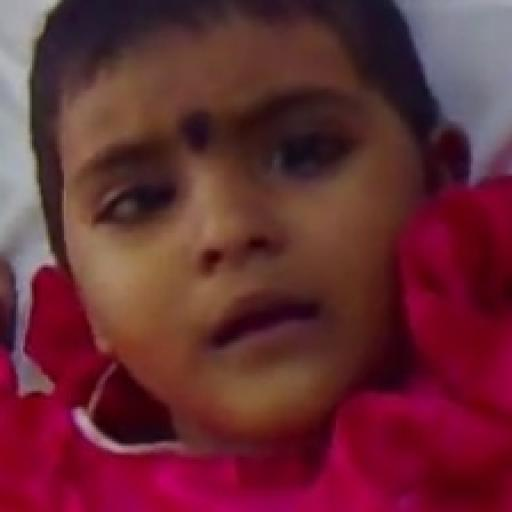Autism: (33, 3, 478, 473)
